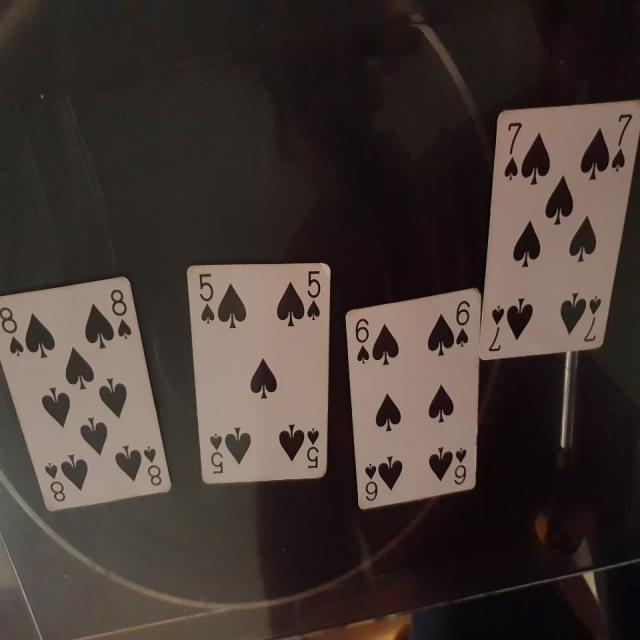5 Spades: (181, 246, 339, 495)
6 Spades: (348, 271, 491, 529)
7 Spades: (478, 89, 640, 367)
8 Spades: (1, 258, 173, 522)
